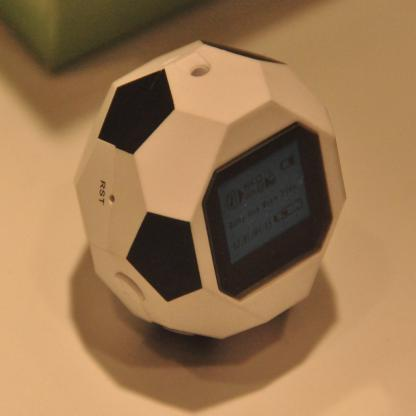Ball: (73, 38, 346, 342)
